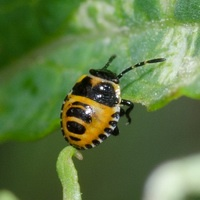insect: (61, 55, 165, 148)
